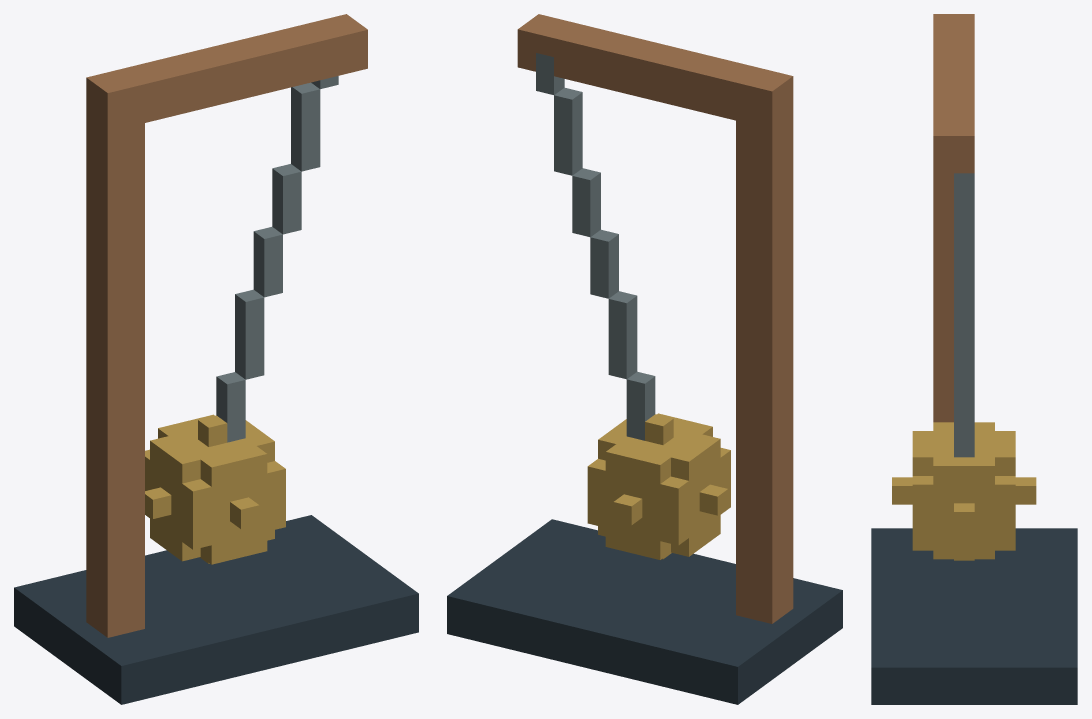
The model's file is physics-12.glb.
3 renders of one model, left to right at view 1: azimuth 30°, elevation 25°; view 2: azimuth 150°, elevation 25°; view 3: azimuth 270°, elevation 25°, orthographic. The views are drawn at different scales.
Visible parts, largest first — view 1: Pendulum; view 2: Pendulum; view 3: Pendulum.
Part boxes in pixels (<box>): Pendulum: <box>14,14,418,704</box>; Pendulum: <box>447,14,842,704</box>; Pendulum: <box>871,14,1077,704</box>.
Size of the model in its own units: 1.28 by 2.4 by 0.8.
